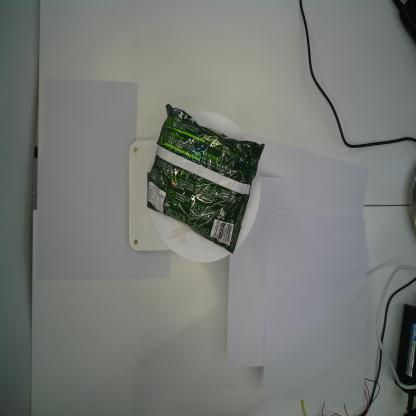Instant Noodles: (144, 101, 266, 256)
